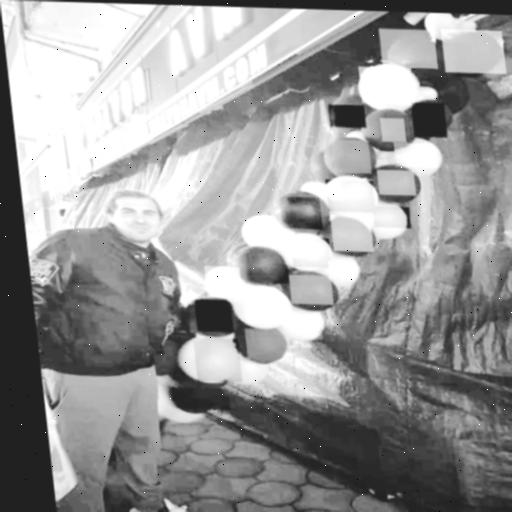balloon: (441, 29, 507, 74), (379, 29, 438, 69), (359, 66, 416, 105), (194, 338, 243, 382), (235, 244, 290, 283), (325, 180, 376, 213), (243, 287, 286, 325), (330, 215, 374, 252), (245, 328, 289, 363), (280, 197, 323, 230), (331, 140, 372, 174), (171, 387, 230, 410), (289, 275, 334, 305), (194, 299, 234, 332), (411, 102, 447, 138), (290, 238, 332, 268), (204, 266, 243, 298), (393, 142, 438, 167), (282, 314, 323, 340), (243, 218, 284, 243), (377, 170, 416, 196), (328, 105, 367, 128), (372, 206, 412, 228), (328, 261, 361, 282), (380, 118, 406, 142)
